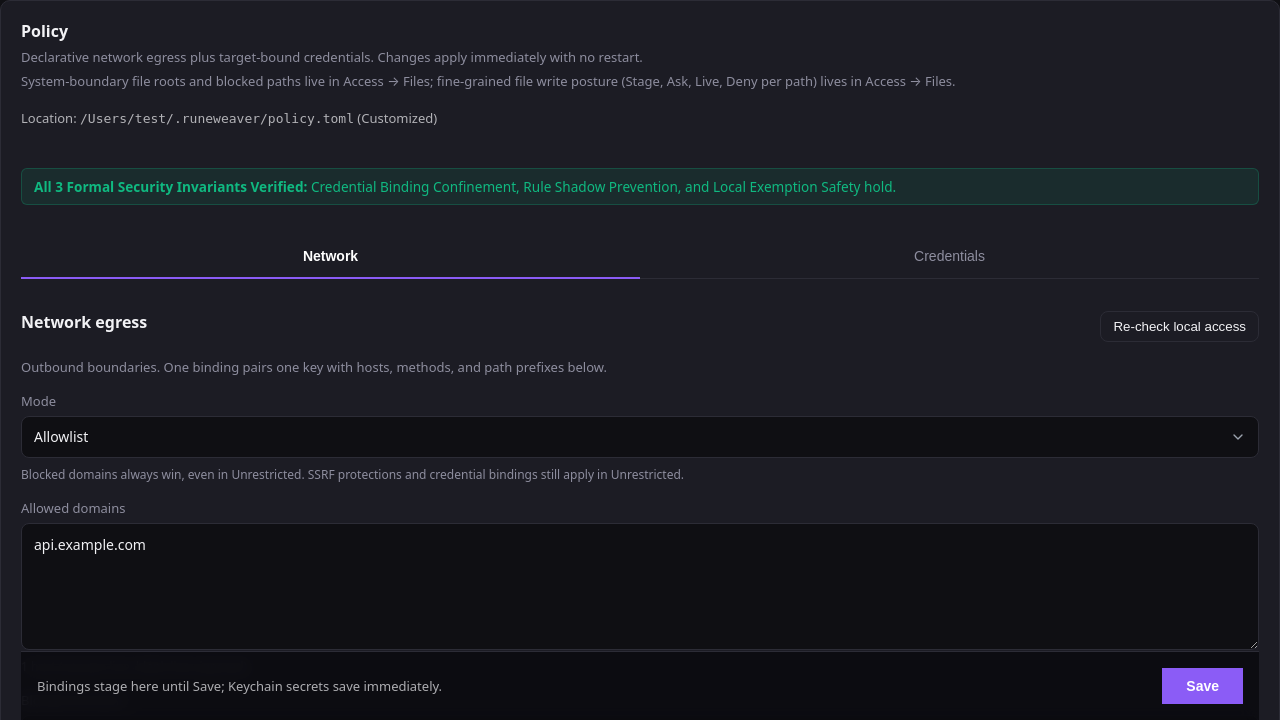
Scenario: AccessCredentialsSection › filters the credentials list by search without touching the draft
Expected: the dropdown labelled "Mode" shows "Allowlist", [21, 416, 1259, 458]
Step 1. Click the tab with test id "policytab-credentials" → click(950, 257), box [640, 235, 1259, 279]
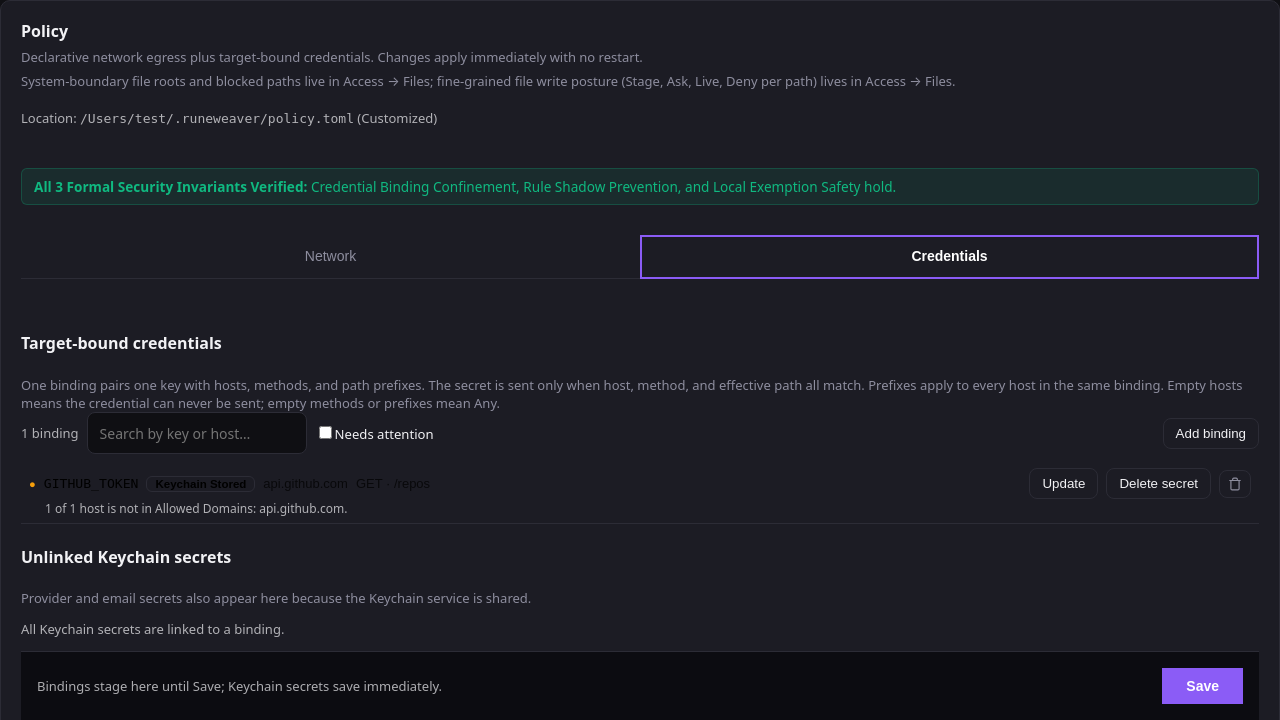
Step 2. Type "zzz-no-such-key" into the field named "Search bindings" → (197, 433), box [87, 412, 307, 454]
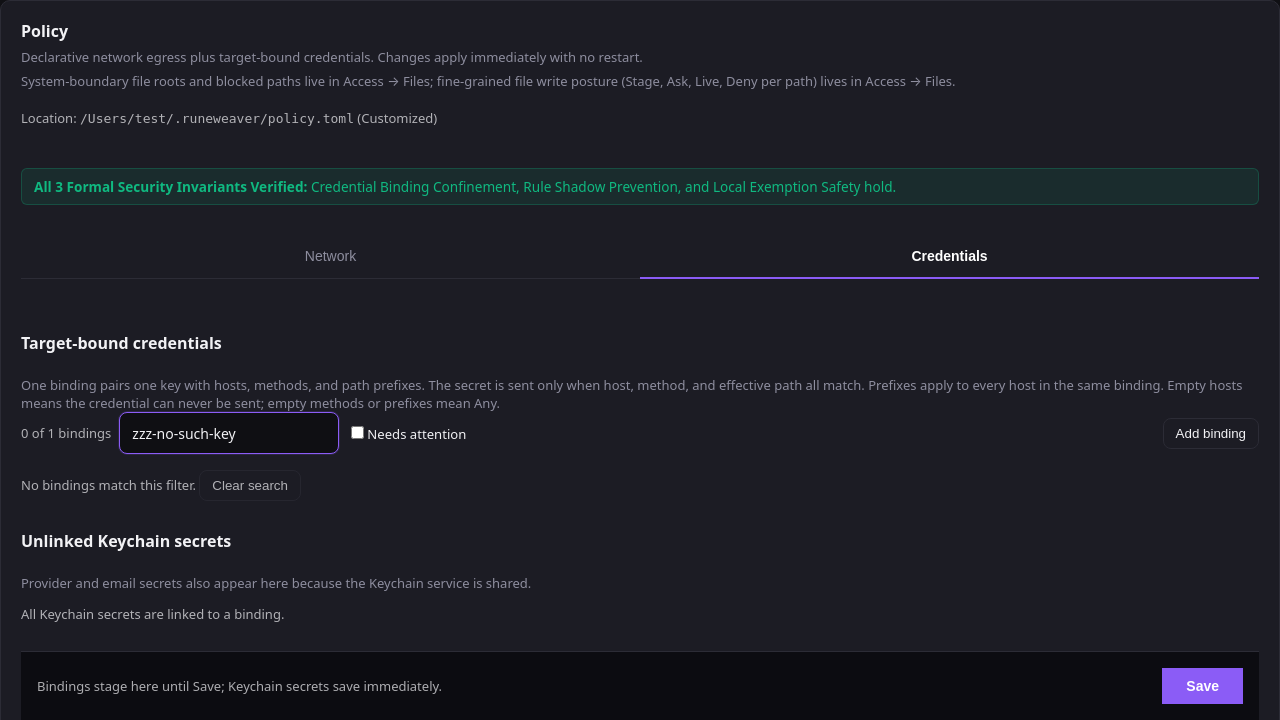
Expected: the element with test id "credentials-no-match" is shown, [21, 470, 301, 501]
Expected: the list item with test id "credential-row" is gone
Step 3. Clear the field named "Search bindings" → (229, 433), box [119, 412, 339, 454]
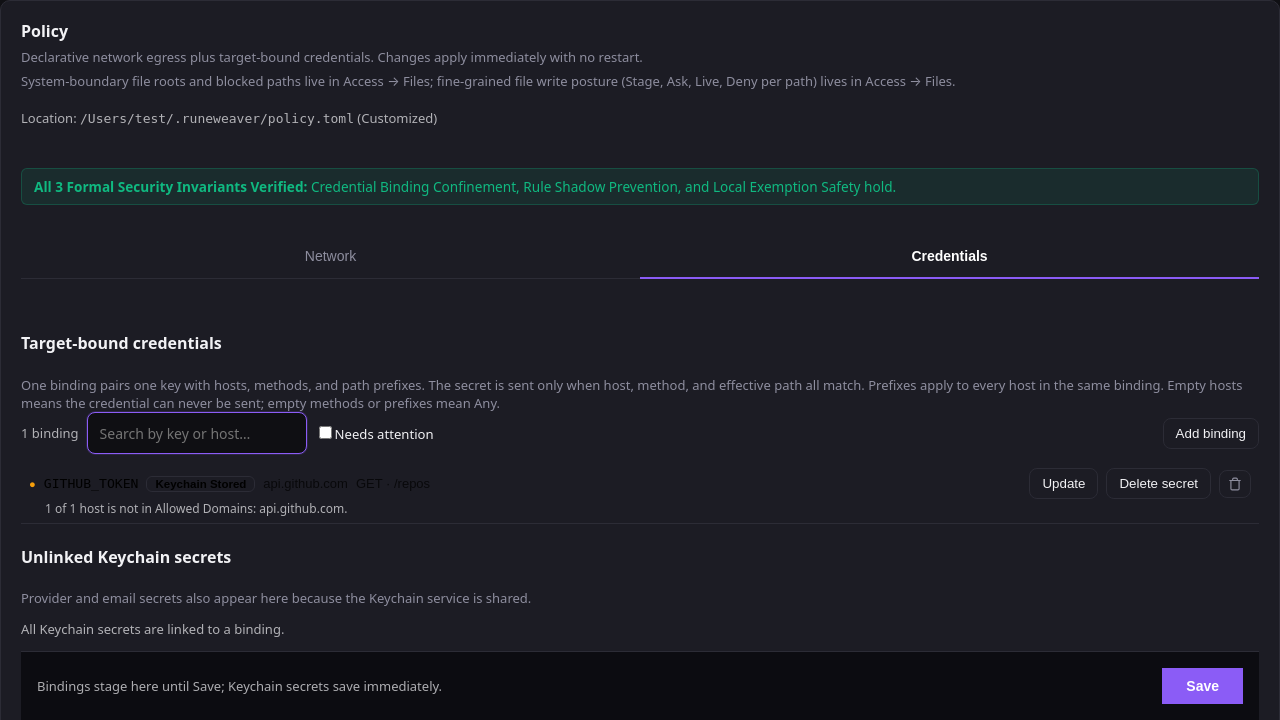
Expected: the list item with test id "credential-row" is shown, [21, 462, 1259, 524]
